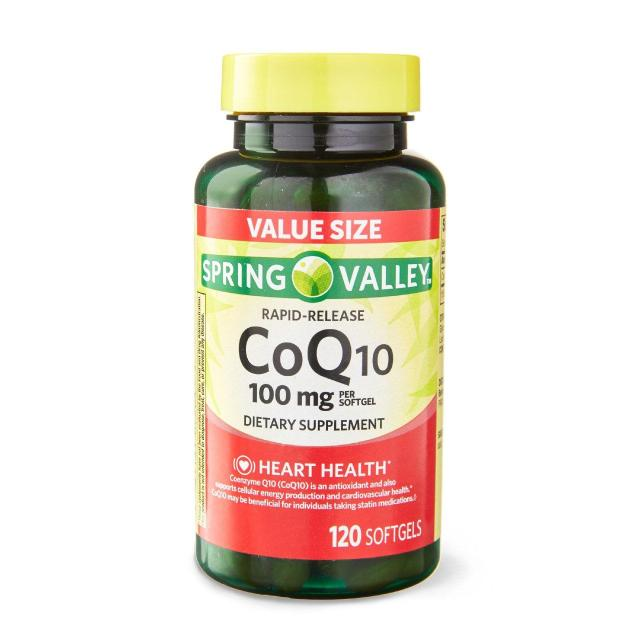food-supliment: (198, 173, 430, 582)
